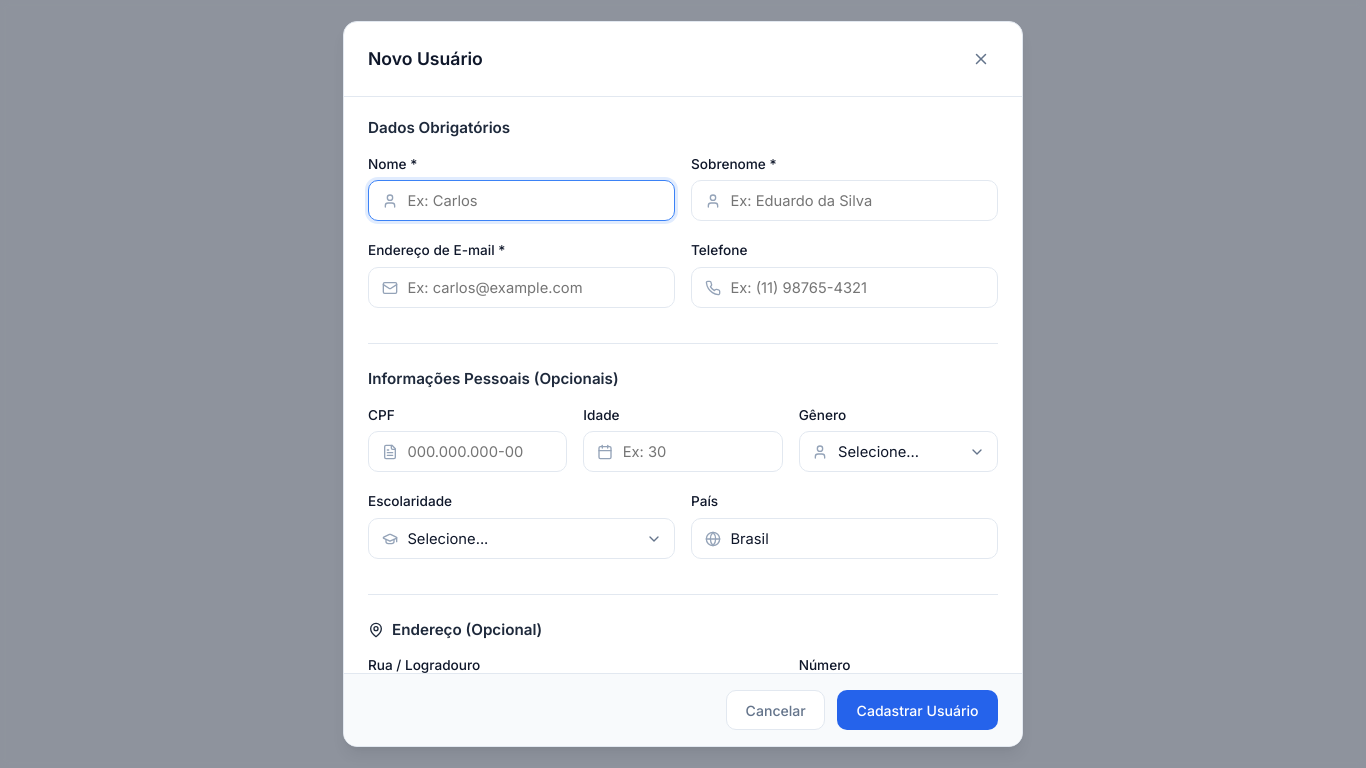
UserFormModal Component Tests › exibe erros de validação quando campos obrigatórios estão vazios
Tentativa com campos vazios
Click the button "Cadastrar Usuário" at [918, 710], box [837,690,998,730]
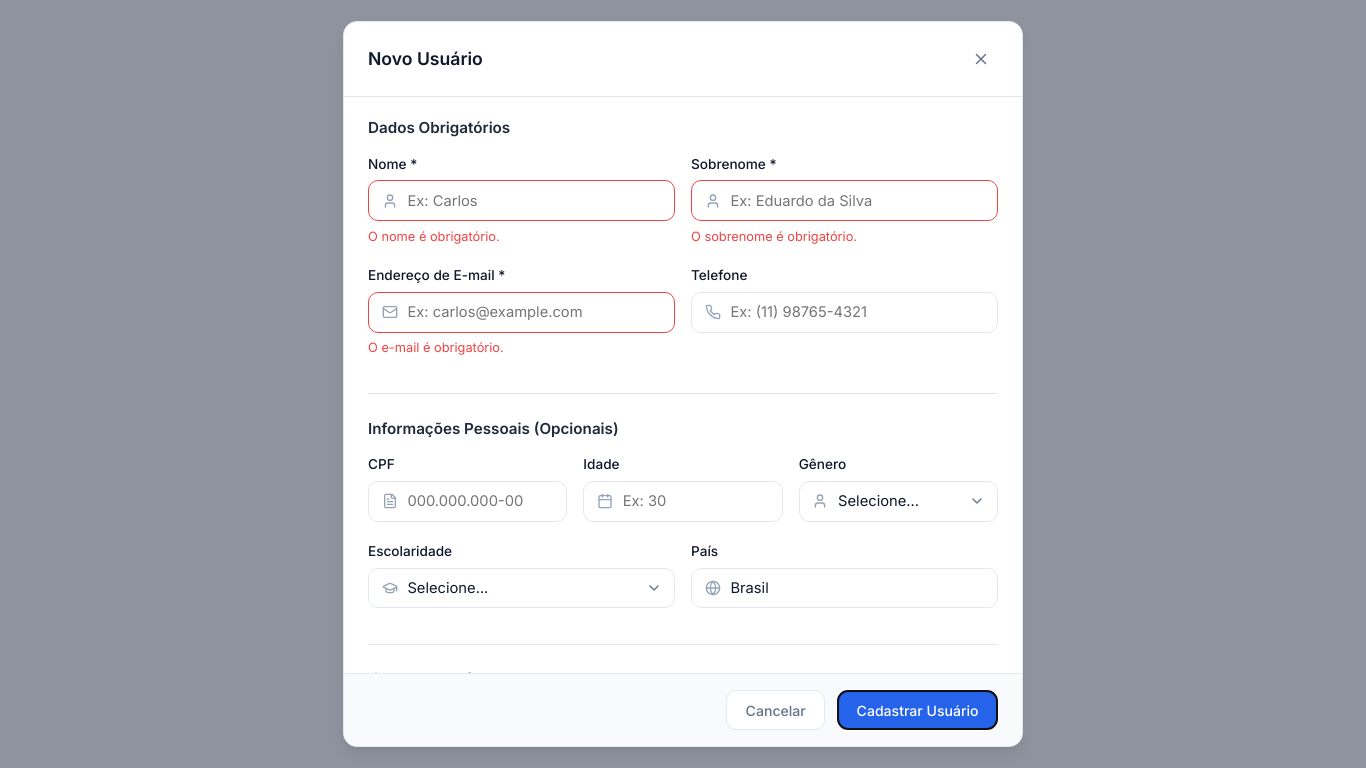
Now the text "O nome é obrigatório." is shown, box [368,229,500,244]
Now the text "O sobrenome é obrigatório." is shown, box [691,229,857,244]
Now the text "O e-mail é obrigatório." is shown, box [368,340,504,355]
